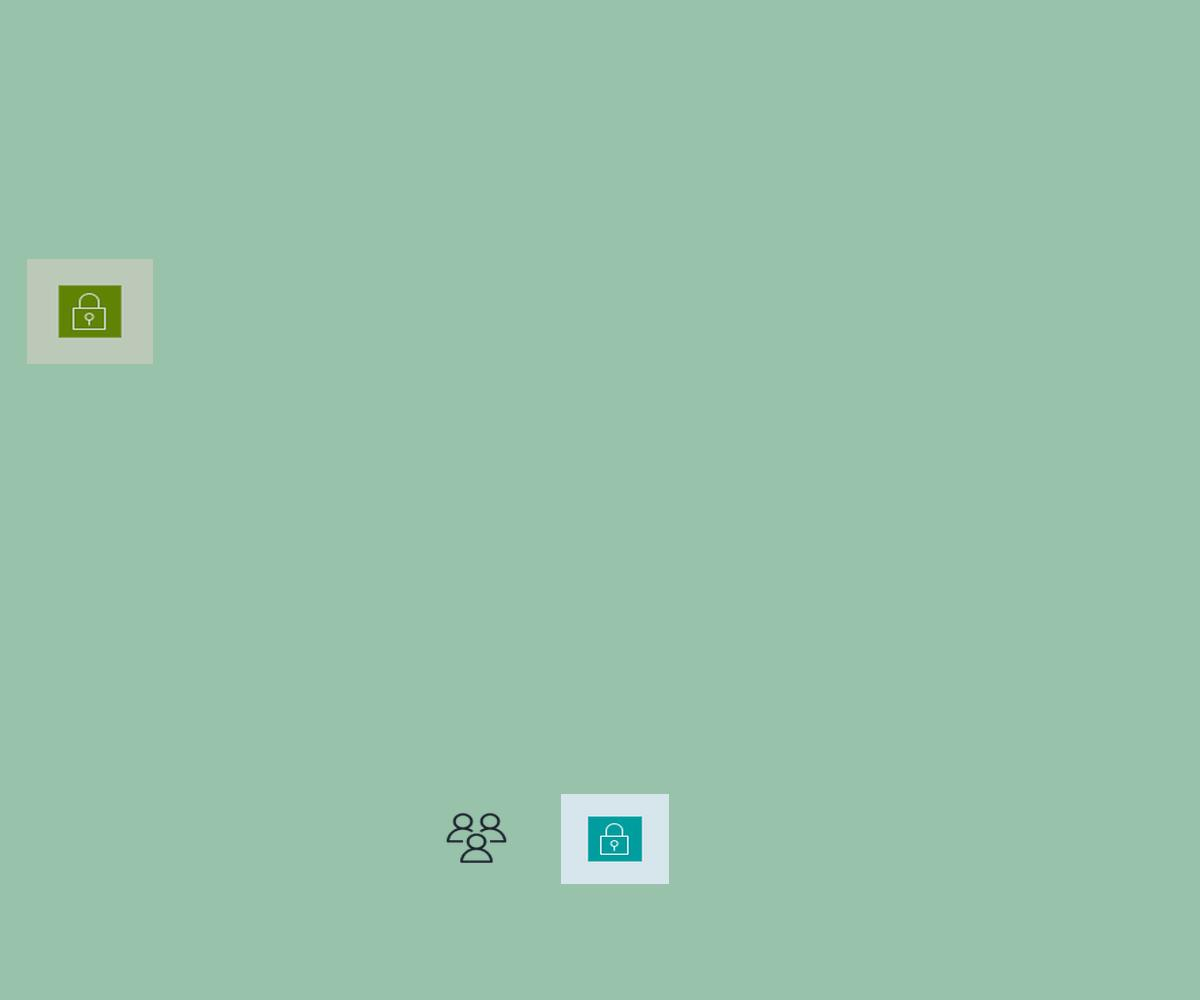AWS-Private-subnet: (561, 794, 669, 884)
AWS-Public-subnet: (27, 259, 153, 364)
AWS-Res_Users: (444, 811, 509, 865)
